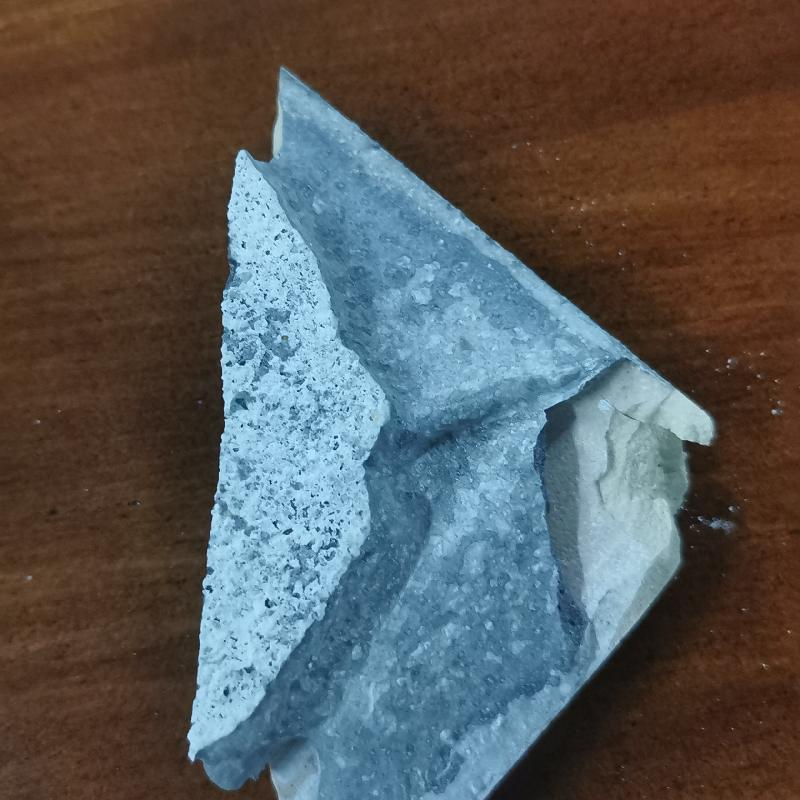tile: (180, 63, 718, 800)
